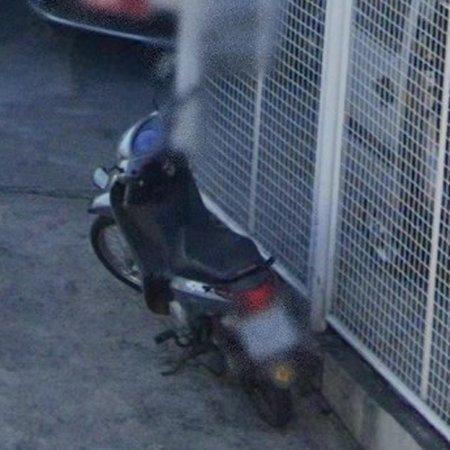motorcycles: (88, 113, 321, 428)
